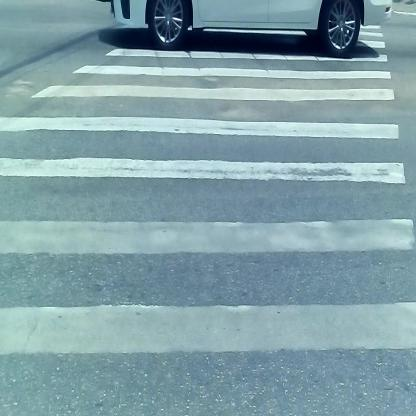crosswalk: (11, 44, 410, 411)
